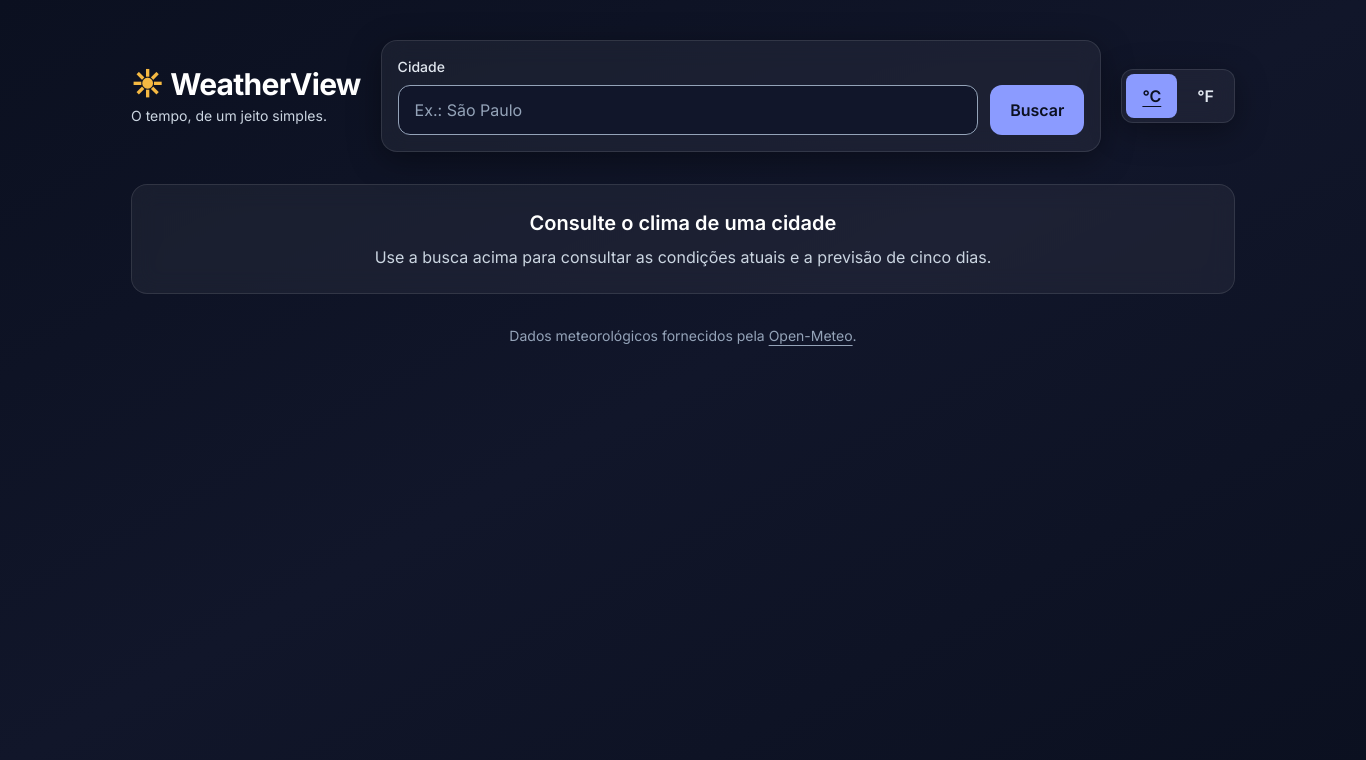
App › mostra erro de search e retry executa a operação real
Type "Salvador" into the search field labelled "Cidade".
click(688, 110); type("Salvador")  # box x1=398 y1=85 x2=978 y2=135
Then press Enter
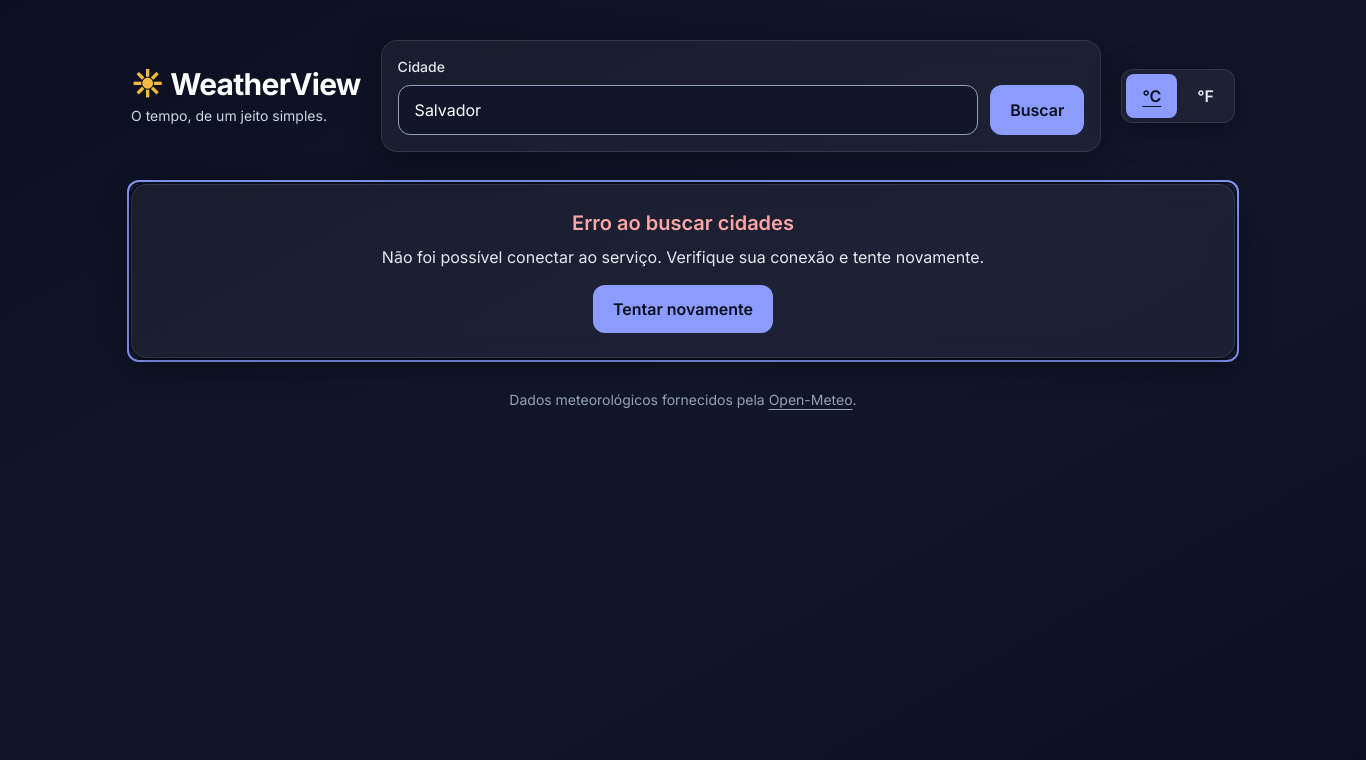
Check: the message shows "Erro ao buscar cidades", box x1=572 y1=211 x2=794 y2=235
Check: the message shows "Não foi possível conectar ao serviço. Verifique sua conexão e tente novamente.", box x1=382 y1=247 x2=984 y2=267
Click the button "Tentar novamente".
click(683, 309)  # box x1=593 y1=285 x2=773 y2=333
(page scrolled)
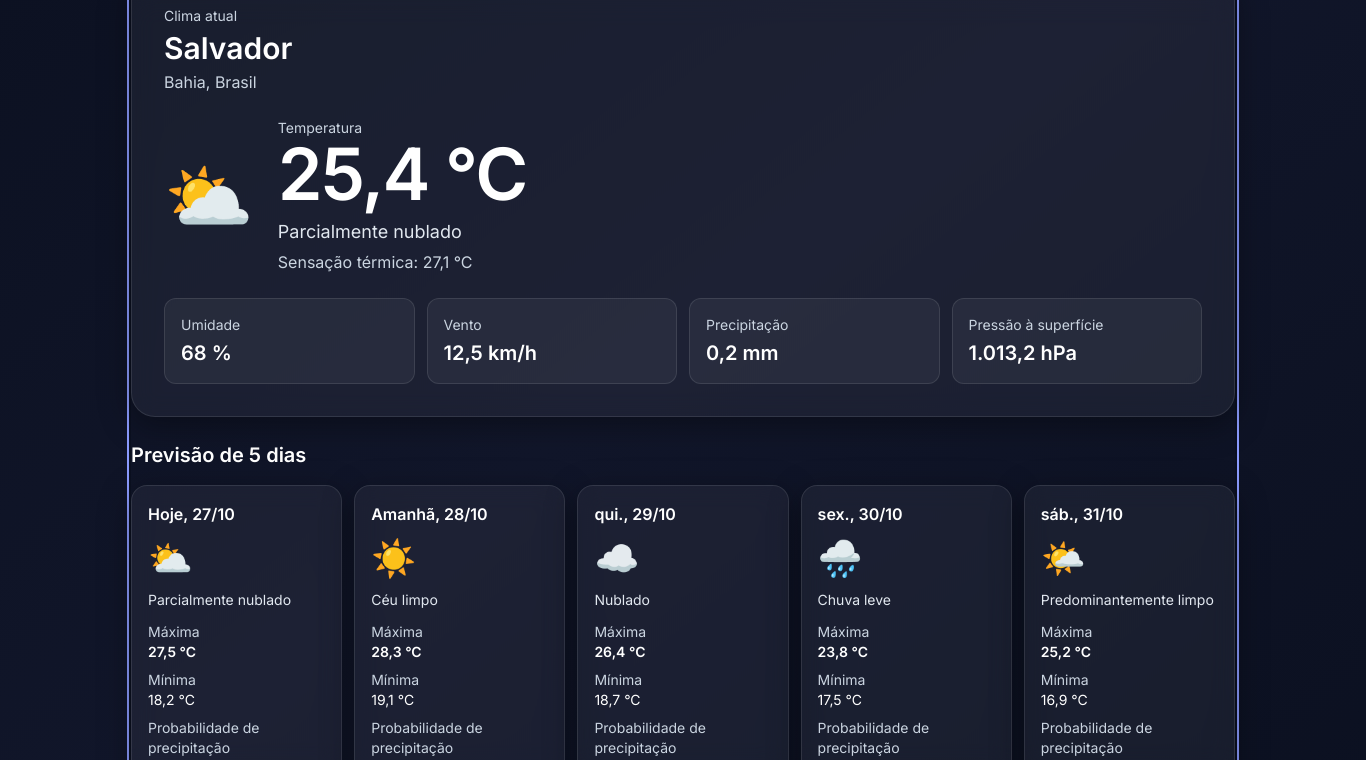
Check: the message is gone
